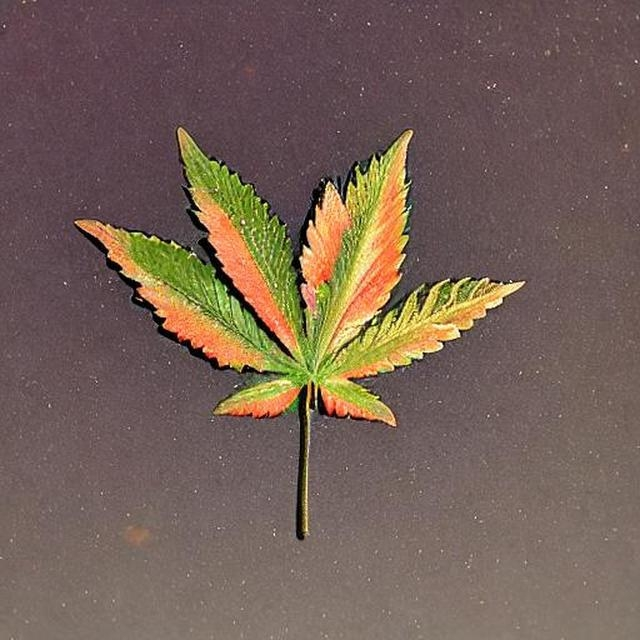Marijuana Leaf: (72, 123, 527, 539), (72, 216, 296, 375)
